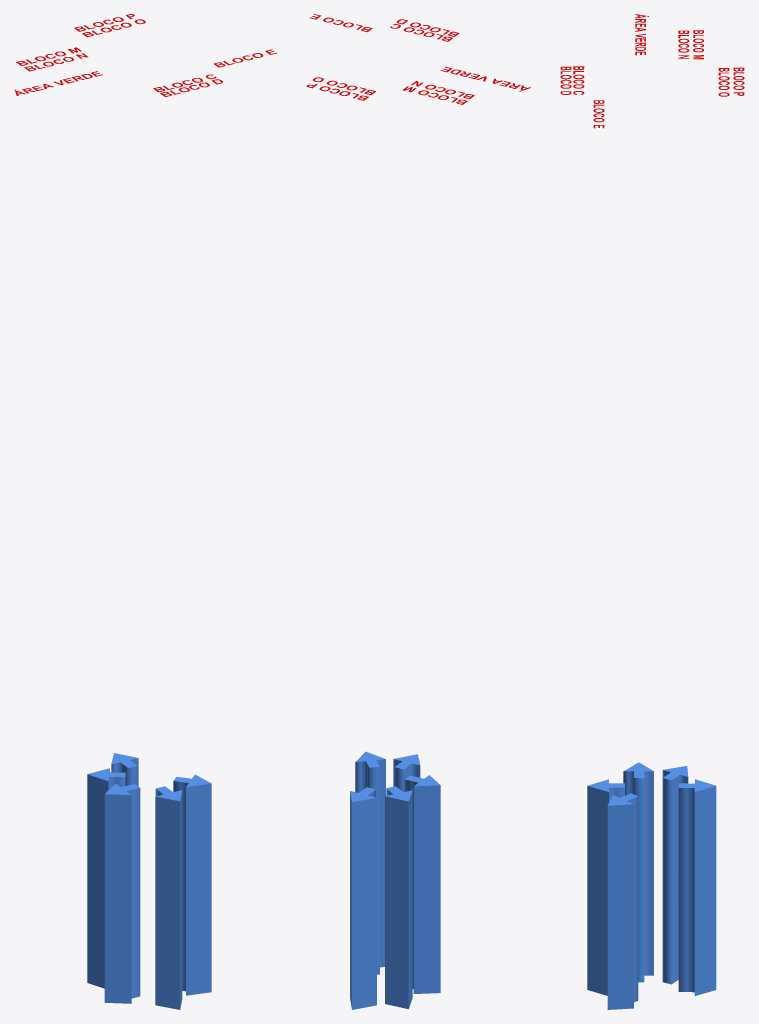
Rendered from bloco G - 0.glb.
3 views of the same model, side by side, from view 1: azimuth 30°, elevation 25°; view 2: azimuth 150°, elevation 25°; view 3: azimuth 270°, elevation 25° (orthographic). The views are drawn at different scales.
Parts seen in each view (by area): view 1: Curve.001, Curve.003, Curve.002, Curve.005, Curve.006; view 2: Curve.001, Curve.005, Curve.006, Curve.003, Curve.002; view 3: Curve.006, Curve.003, Curve.002, Curve.005, Curve.001.
Boxes of the visible parts, <box> form: Curve.001: <box>104,784,140,1003</box>; Curve.003: <box>173,774,211,995</box>; Curve.002: <box>155,786,182,1009</box>; Curve.005: <box>87,768,125,988</box>; Curve.006: <box>111,753,138,786</box>; Curve.001: <box>404,775,440,993</box>; Curve.005: <box>385,786,412,1009</box>; Curve.006: <box>350,787,376,1009</box>; Curve.003: <box>355,751,385,974</box>; Curve.002: <box>393,754,420,792</box>; Curve.006: <box>678,779,716,995</box>; Curve.003: <box>607,793,638,1009</box>; Curve.002: <box>587,779,624,995</box>; Curve.005: <box>662,766,688,984</box>; Curve.001: <box>623,762,653,982</box>.
Size of the model in its own units: 0.1581 by 0.5868 by 0.1076.
